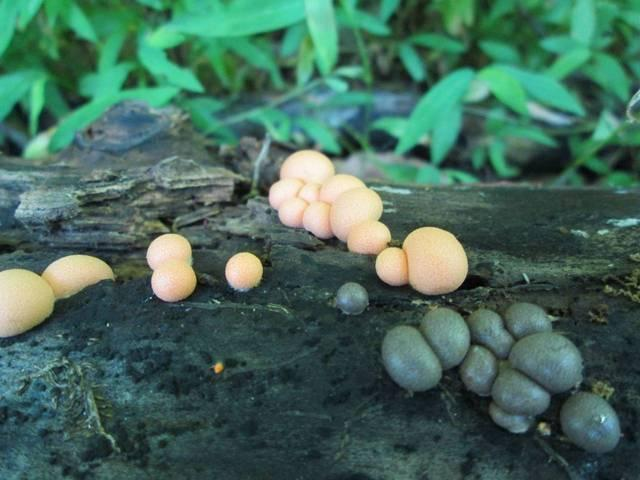Non-edible Mushroom: (371, 279, 589, 430), (267, 147, 469, 295), (401, 225, 468, 295), (559, 391, 621, 454), (0, 267, 55, 337), (40, 252, 115, 299), (328, 186, 383, 242), (279, 148, 334, 184), (149, 261, 197, 302), (145, 232, 192, 270), (224, 250, 263, 291), (346, 219, 391, 254), (374, 245, 408, 286), (334, 281, 368, 315)
